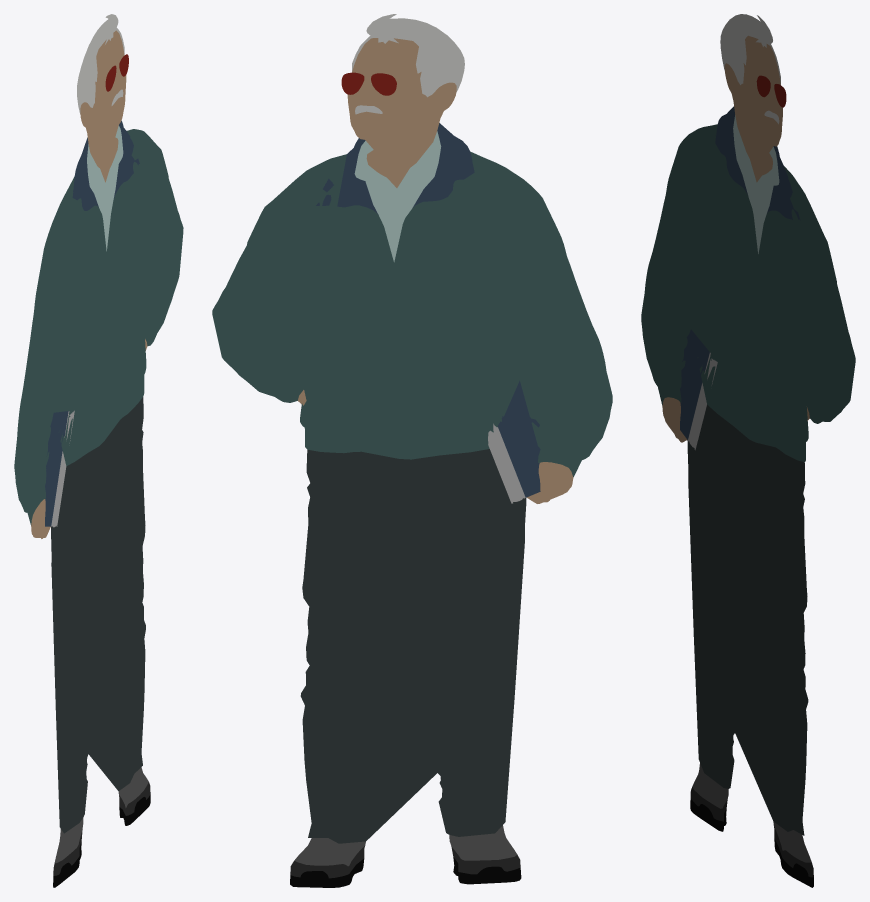
File: floor.obj
The picture shows the model from 3 angles, left to right: view 1: azimuth 30°, elevation 25°; view 2: azimuth 150°, elevation 25°; view 3: azimuth 270°, elevation 25°; orthographic projection. The views are drawn at different scales.
Parts seen in each view (by area): view 1: Mesh1 Steve1 Model; view 2: Mesh1 Steve1 Model; view 3: Mesh1 Steve1 Model.
Part boxes in pixels (x1,y1,x2,y2): Mesh1 Steve1 Model: (14, 14, 183, 887); Mesh1 Steve1 Model: (212, 14, 612, 887); Mesh1 Steve1 Model: (641, 14, 855, 887).
Size of what is drawn, in the model's own units: 0.5878 by 1.69 by 0.3919.
